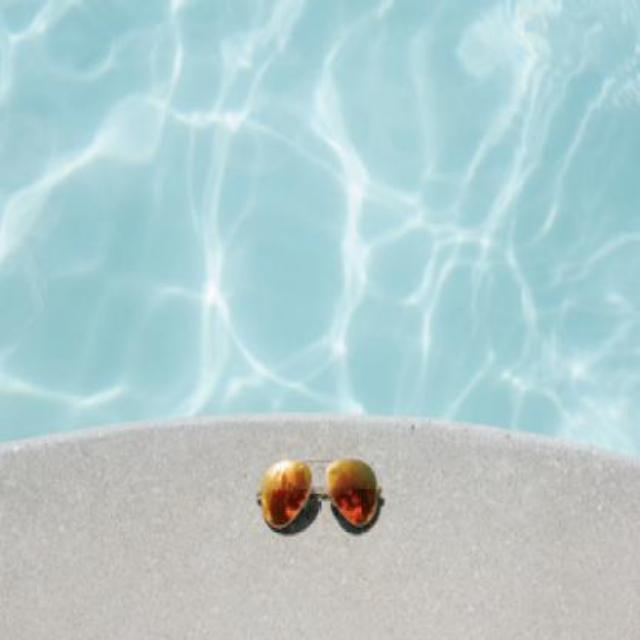sunglasses: (256, 458, 382, 530)
